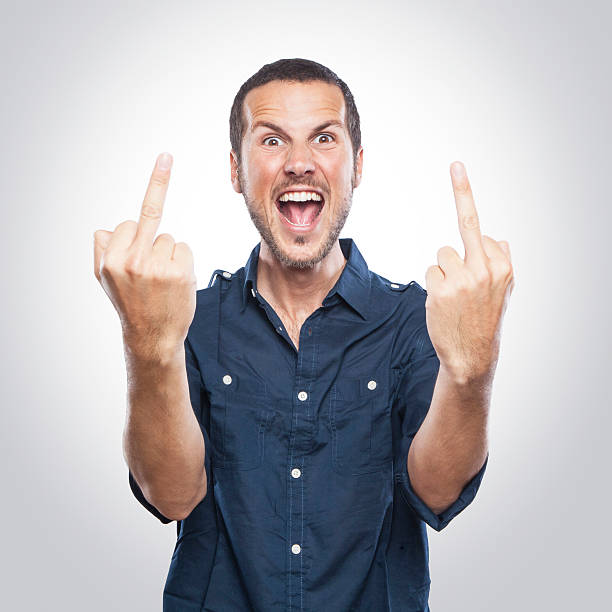insulting_gesture: (422, 156, 519, 380), (91, 151, 199, 352)
